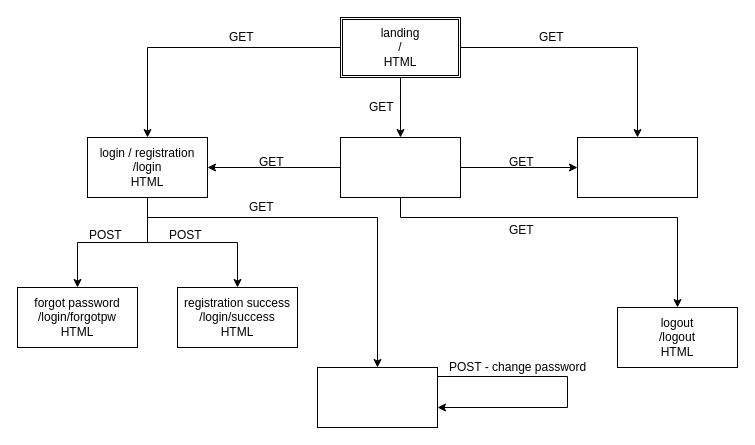
The diagram is 755 pixels wide and 445 high, and some of its shapes have lost their labels. The box of each missing label's shape, as (x1, y1, x2, y2) in pixels:
maps /maps HTML: (340, 136, 460, 198)
places /places HTML: (576, 136, 698, 198)
profile /profile HTML: (316, 366, 438, 428)
